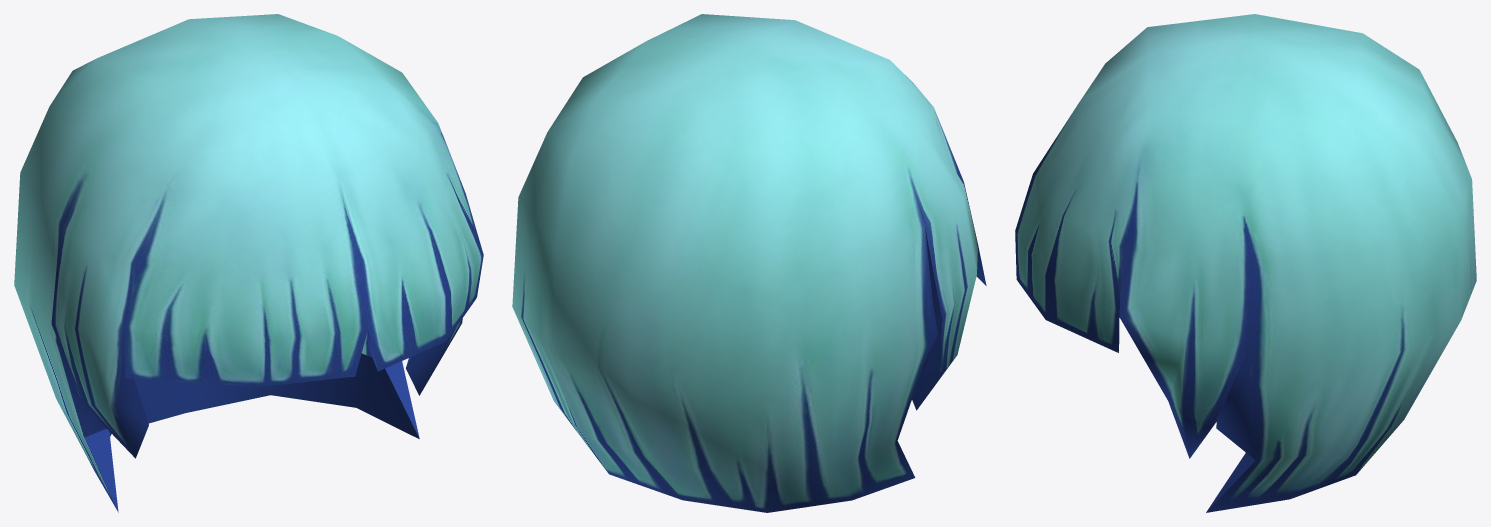
File: Hair_Girl_Style_01_UV_v003.fbx
3 views of the same model, side by side, from view 1: azimuth 30°, elevation 25°; view 2: azimuth 150°, elevation 25°; view 3: azimuth 270°, elevation 25° (orthographic). The views are drawn at different scales.
Parts seen in each view (by area): view 1: Head1; view 2: Head1; view 3: Head1.
Part boxes in pixels (<box>): Head1: <box>14,14,483,512</box>; Head1: <box>512,14,986,512</box>; Head1: <box>1015,14,1476,512</box>.
Size of the model in its own units: 2.9 by 2.96 by 3.08.
1 material, 1 textured.
